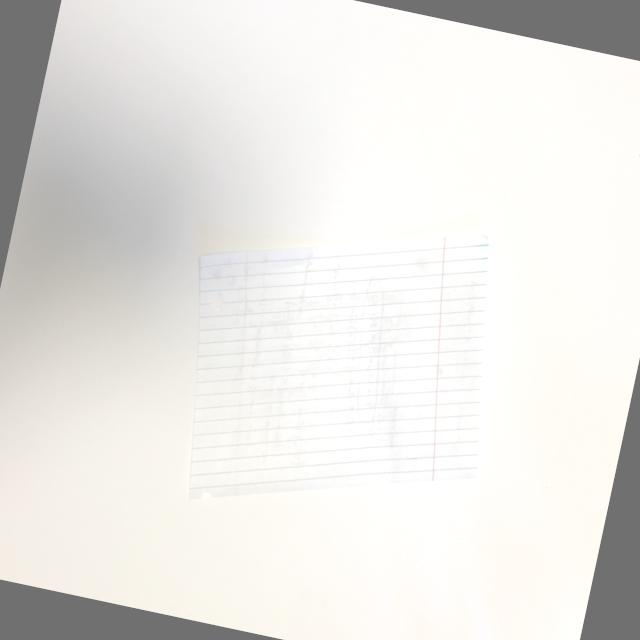Paper: (142, 167, 554, 574)
